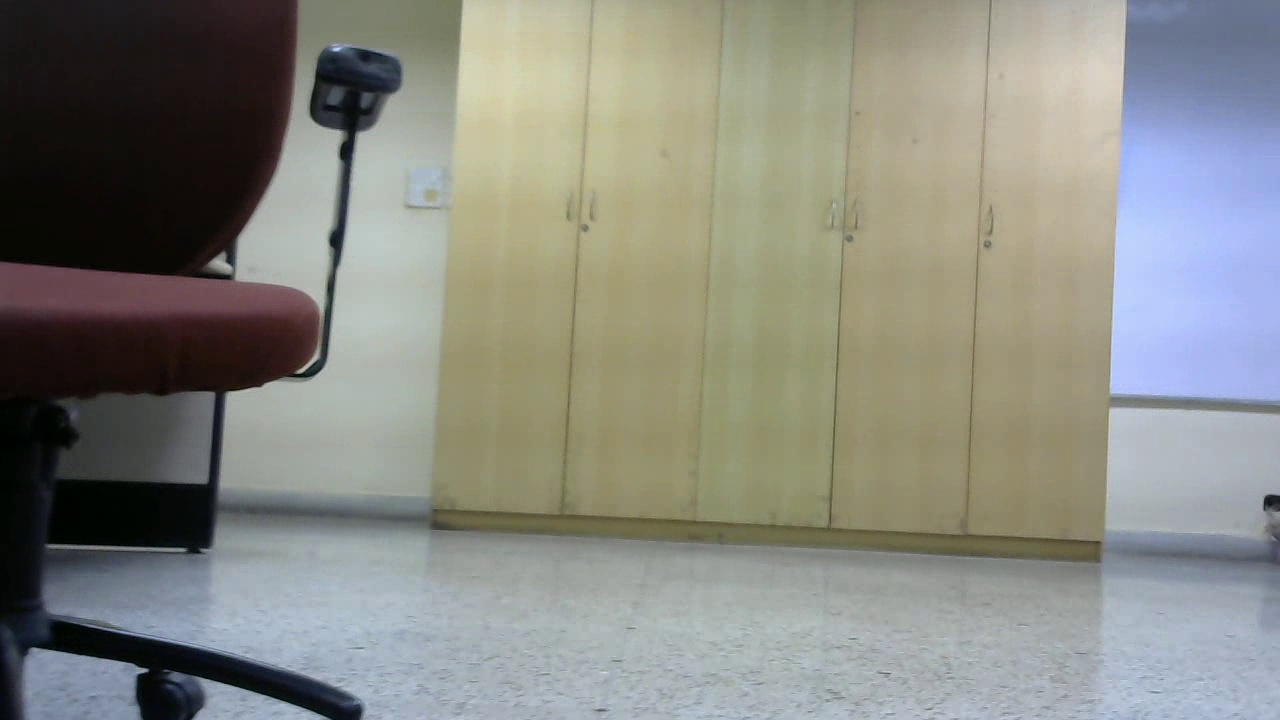chair: (715, 174, 1058, 614), (289, 141, 501, 545)
